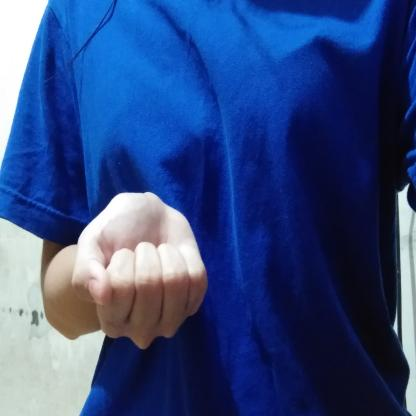where: (68, 187, 225, 355)
